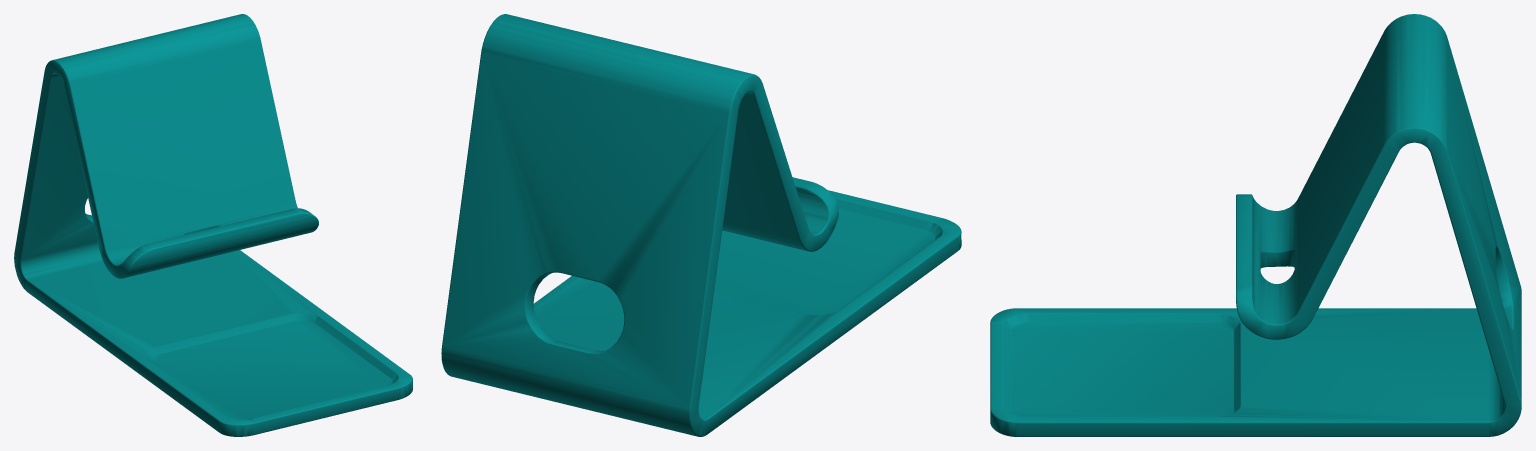
Rendered from telefon-standi-bolmeli.glb.
3 views of the same model, side by side, from view 1: azimuth 30°, elevation 25°; view 2: azimuth 150°, elevation 25°; view 3: azimuth 270°, elevation 25° (orthographic). The views are drawn at different scales.
Parts seen in each view (by area): view 1: Body; view 2: Body; view 3: Body.
Boxes of the visible parts, x1,y1,x2,y2 form: Body: (14, 14, 412, 436); Body: (441, 14, 961, 436); Body: (990, 14, 1521, 436).
Bounding box in the file's own units: 0.08 × 0.1009 × 0.157.
